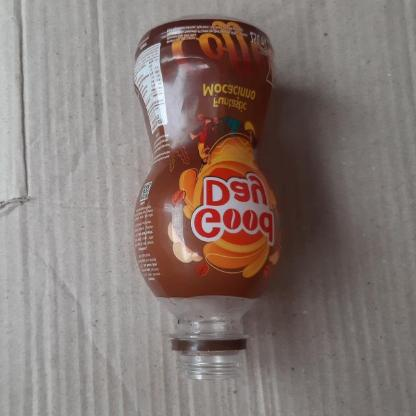Plastic Bottle: (130, 12, 286, 382)
